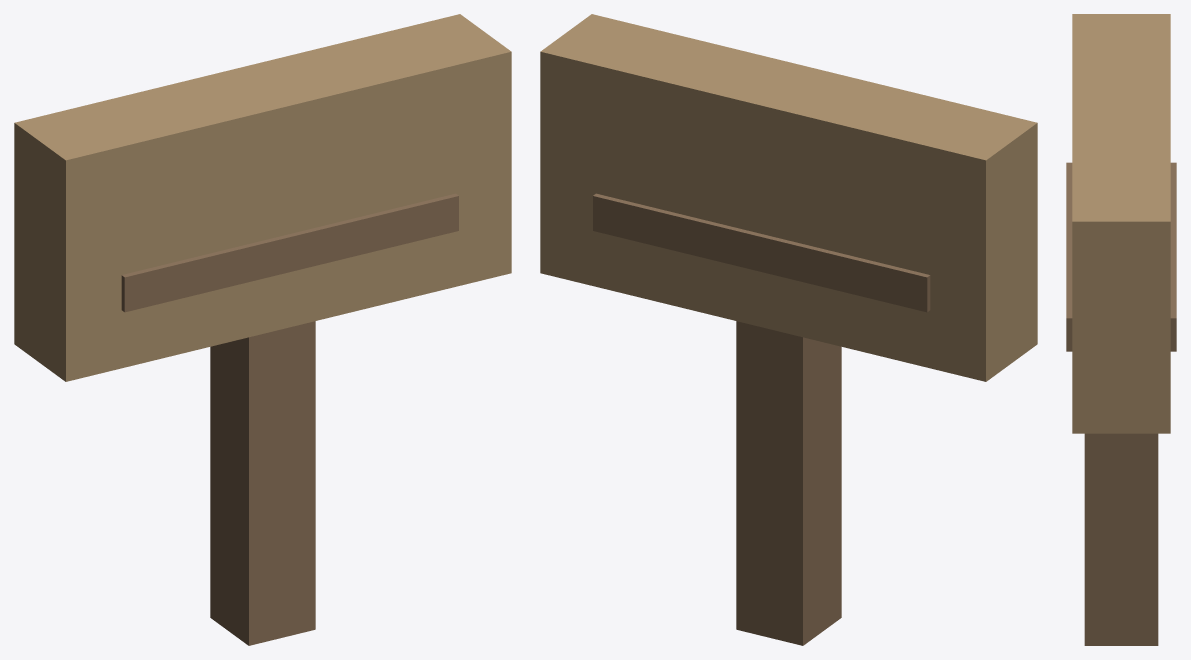
File: sign.gltf
The picture shows the model from 3 angles, left to right: view 1: azimuth 30°, elevation 25°; view 2: azimuth 150°, elevation 25°; view 3: azimuth 270°, elevation 25°; orthographic projection. The views are drawn at different scales.
Parts seen in each view (by area): view 1: sign; view 2: sign; view 3: sign.
Boxes of the visible parts, x1,y1,x2,y2 form: sign: (14,14,511,645); sign: (540,14,1037,645); sign: (1066,14,1176,645).
Bounding box in the file's own units: 0.8 × 0.92 × 0.18.
